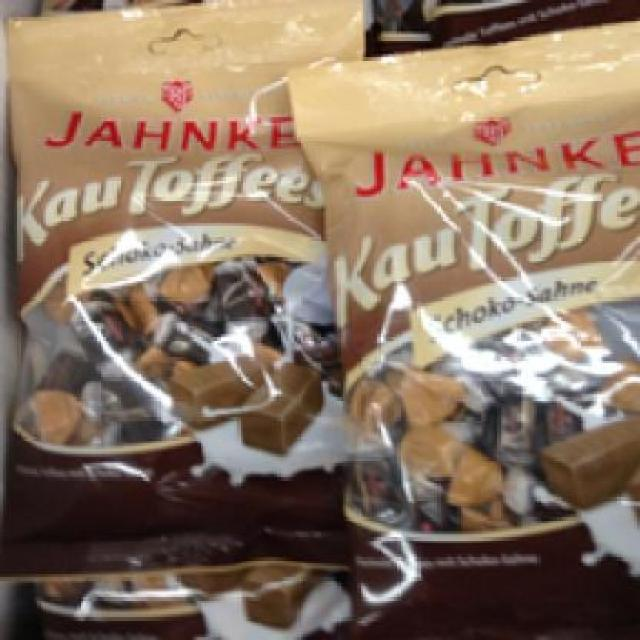Candy: (6, 14, 340, 540), (302, 82, 638, 558)
